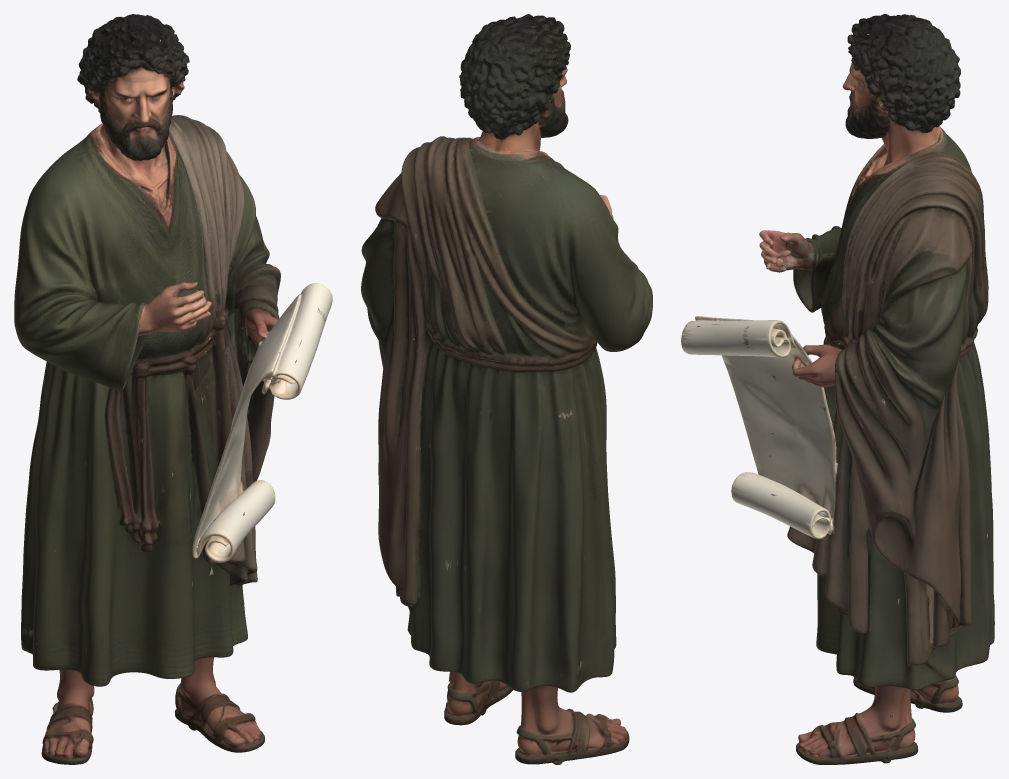
The model's file is Meshy_AI_Matthew_0320231652_texture.glb.
The picture shows the model from 3 angles, left to right: view 1: azimuth 30°, elevation 25°; view 2: azimuth 150°, elevation 25°; view 3: azimuth 270°, elevation 25°; orthographic projection.
Size of the model in its own units: 0.7294 by 1.9 by 0.7653.
1 material, 1 textured.
